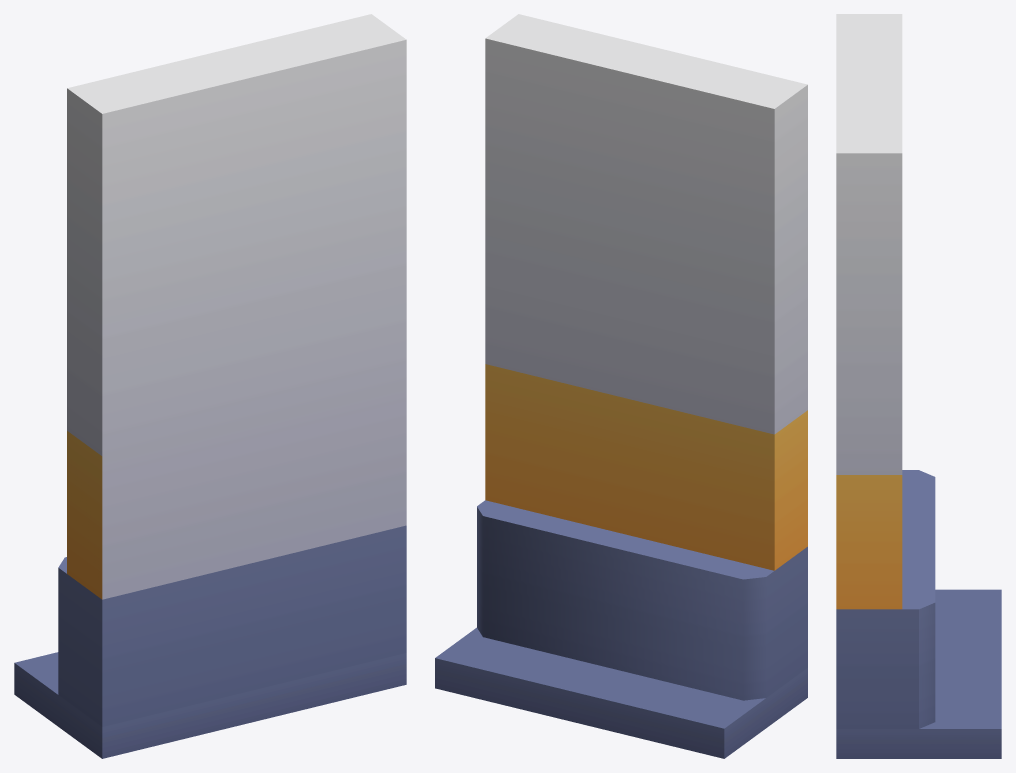
The model's file is template-wall-half.glb.
3 views of the same model, side by side, from view 1: azimuth 30°, elevation 25°; view 2: azimuth 150°, elevation 25°; view 3: azimuth 270°, elevation 25° (orthographic). The views are drawn at different scales.
Parts seen in each view (by area): view 1: template-wall-half; view 2: template-wall-half; view 3: template-wall-half.
Boxes of the visible parts, bbox=[...] form: template-wall-half: bbox=[14, 14, 406, 758]; template-wall-half: bbox=[435, 14, 807, 758]; template-wall-half: bbox=[836, 14, 1001, 758].
Bounding box in the file's own units: 2 × 4.05 × 1.
1 material, 1 textured.
